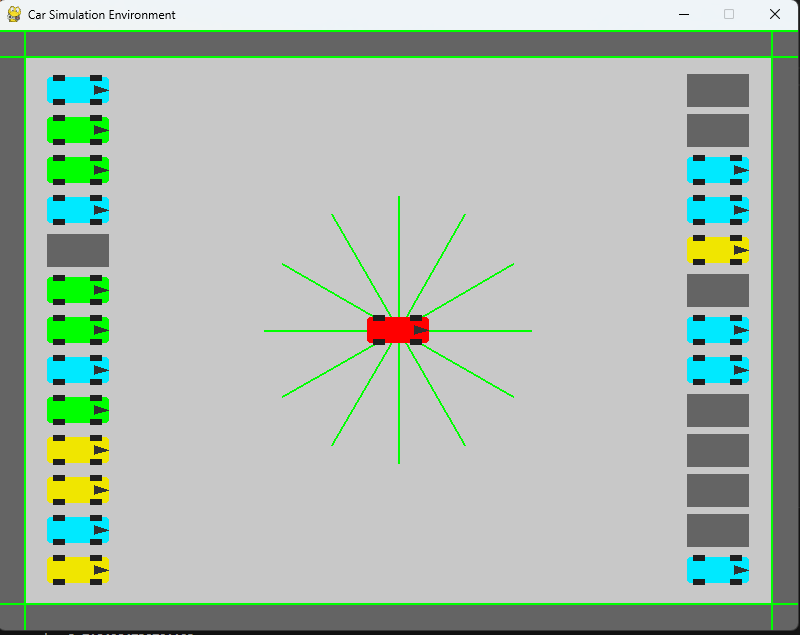ControlledCar: (355, 306, 443, 350)
ParkedCar: (40, 108, 114, 151), (38, 66, 112, 107), (40, 352, 114, 388), (42, 312, 114, 348), (43, 153, 114, 189), (680, 191, 749, 227), (685, 352, 750, 390), (680, 234, 752, 268), (44, 433, 110, 469), (48, 390, 110, 428), (45, 271, 112, 306), (42, 474, 110, 507), (683, 155, 753, 187), (687, 311, 749, 347), (46, 515, 111, 549), (684, 553, 750, 586), (44, 194, 112, 225), (47, 554, 112, 585)
ParkingSpot: (678, 66, 751, 110), (677, 430, 759, 469), (680, 392, 754, 433), (42, 230, 117, 270), (680, 112, 757, 149), (683, 469, 754, 509), (683, 512, 753, 550), (682, 274, 755, 308)
